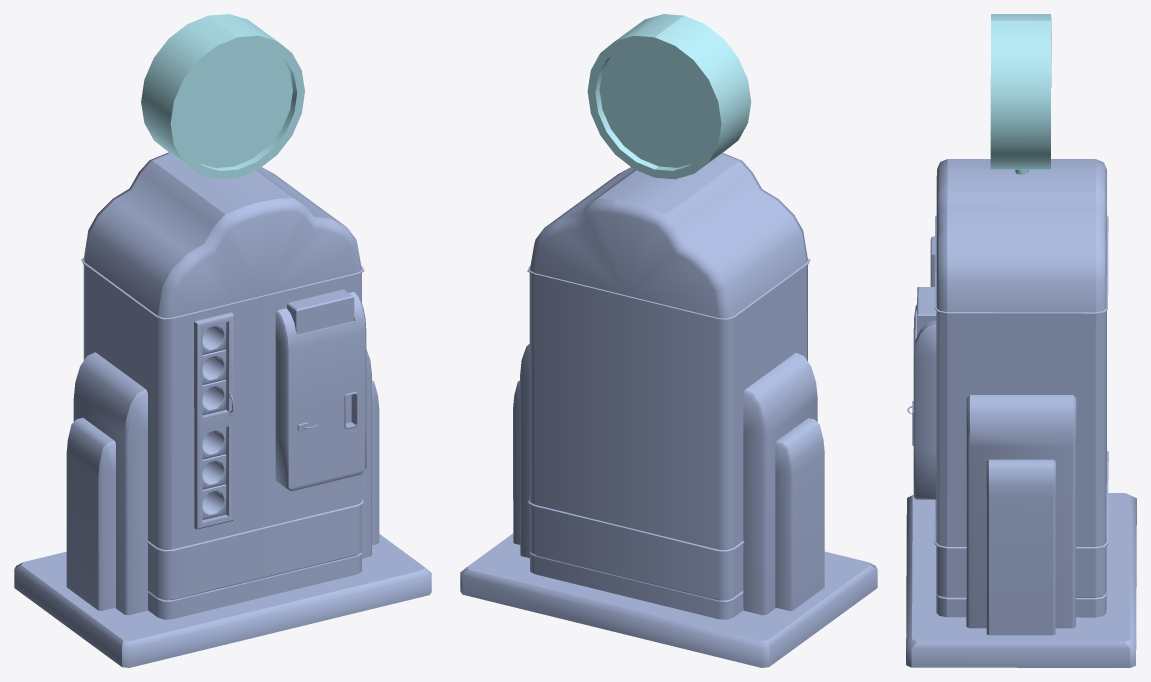
The model's file is Mule Kick V2.fbx.
3 views of the same model, side by side, from view 1: azimuth 30°, elevation 25°; view 2: azimuth 150°, elevation 25°; view 3: azimuth 270°, elevation 25° (orthographic).
Visible parts, largest first — view 1: mulekick, mulekick sign; view 2: mulekick, mulekick sign; view 3: mulekick, mulekick sign.
Boxes of the visible parts, x1=… form: mulekick: x1=14, y1=152, x2=431, y2=667; mulekick sign: x1=141, y1=14, x2=304, y2=179; mulekick: x1=460, y1=153, x2=877, y2=667; mulekick sign: x1=587, y1=14, x2=751, y2=179; mulekick: x1=906, y1=159, x2=1136, y2=667; mulekick sign: x1=990, y1=14, x2=1051, y2=174.
Bounding box in the file's own units: 6710 × 11665 × 4276.
